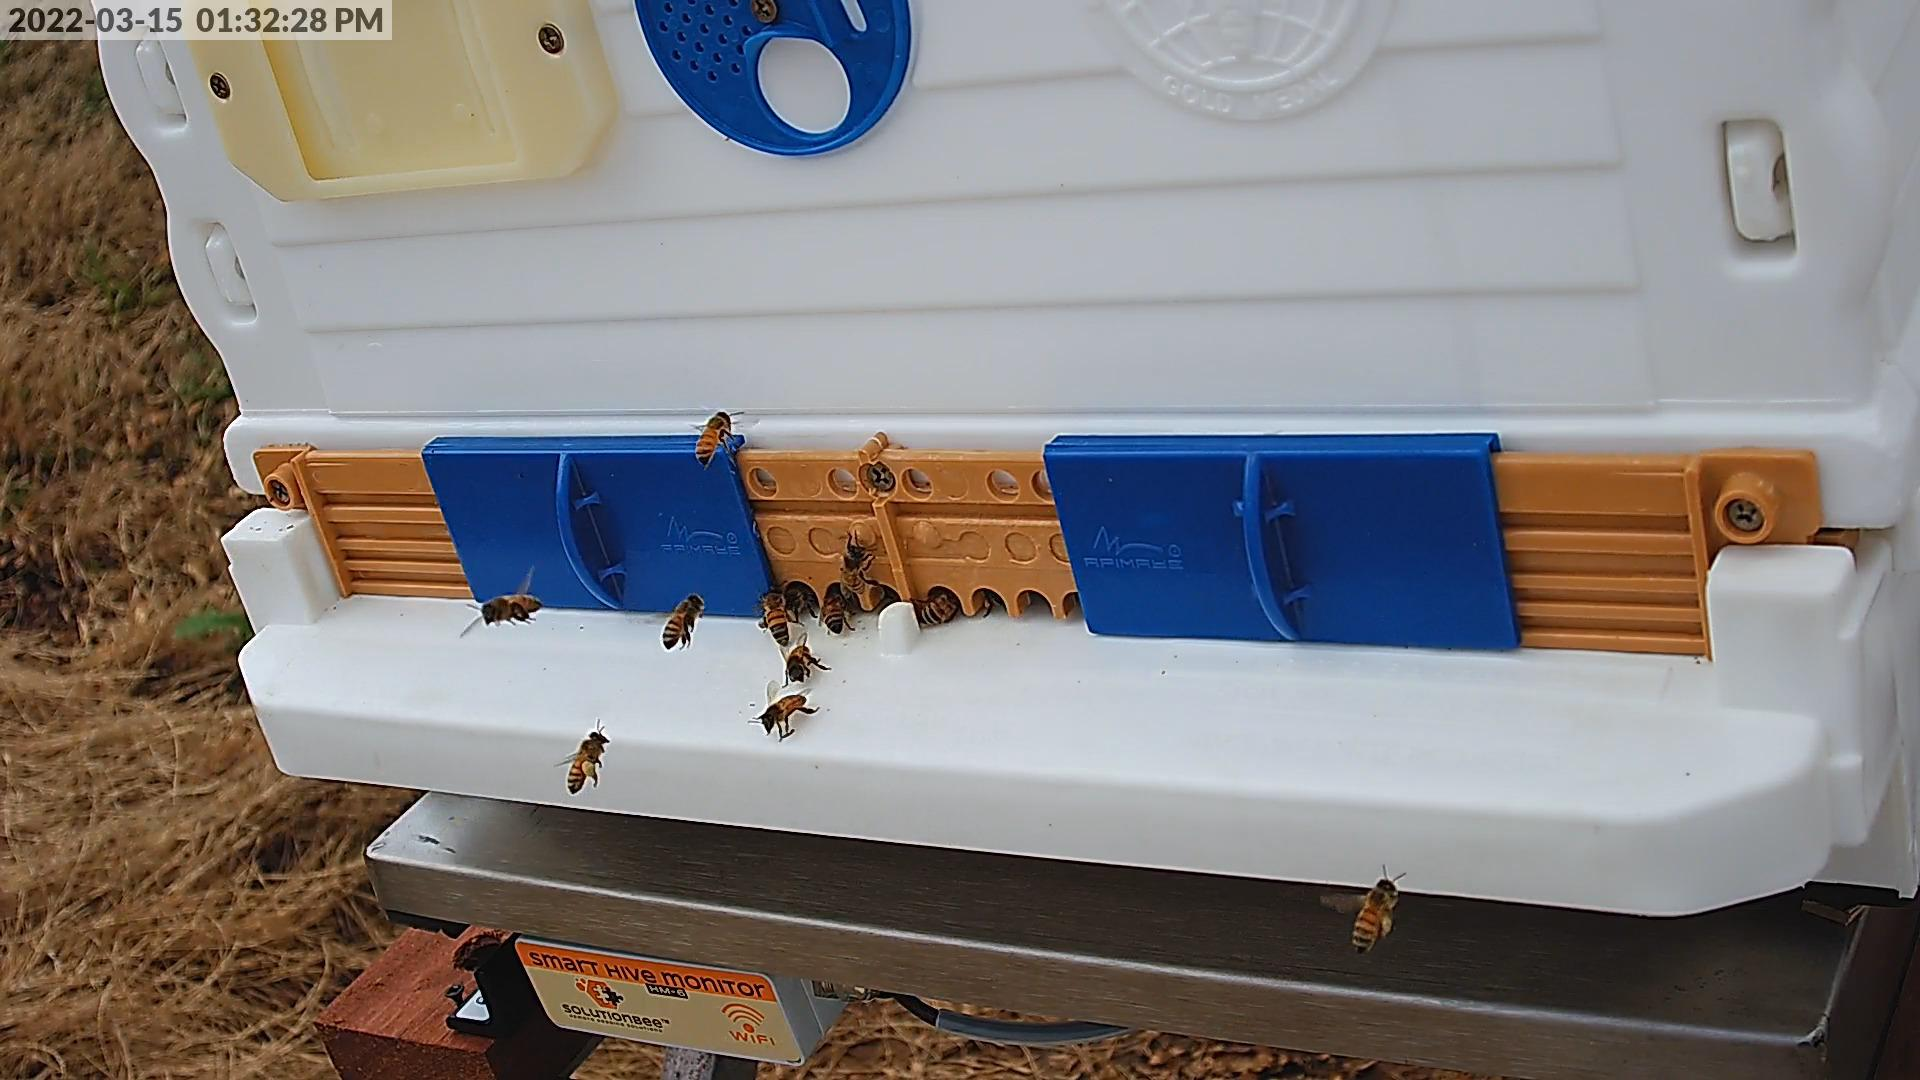bee: (661, 592, 704, 647), (696, 410, 735, 465), (484, 595, 542, 628), (762, 695, 806, 732), (840, 543, 868, 592), (916, 592, 959, 624), (820, 589, 847, 634), (786, 645, 812, 680)
pollenbee: (1354, 881, 1395, 948), (566, 733, 608, 790), (756, 589, 798, 644)
